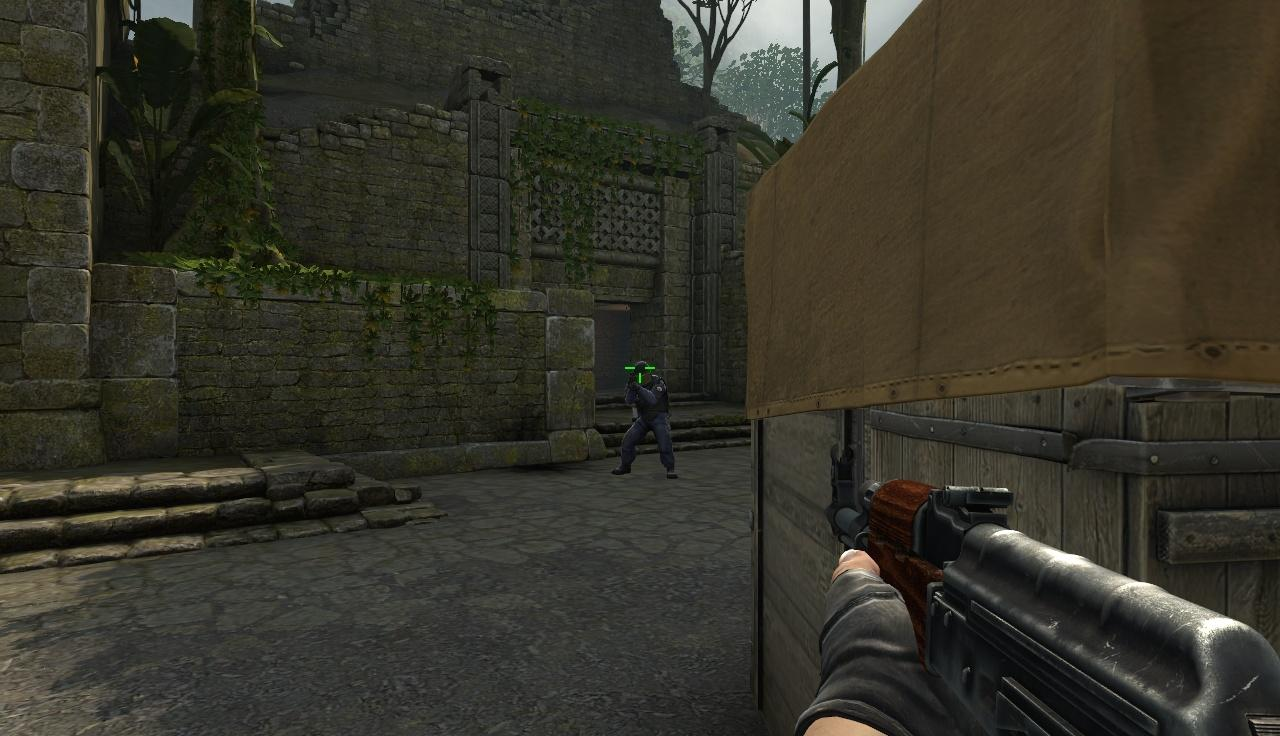ct: (627, 361, 674, 479)
cthead: (635, 361, 654, 383)
rifle: (827, 441, 1280, 731)
